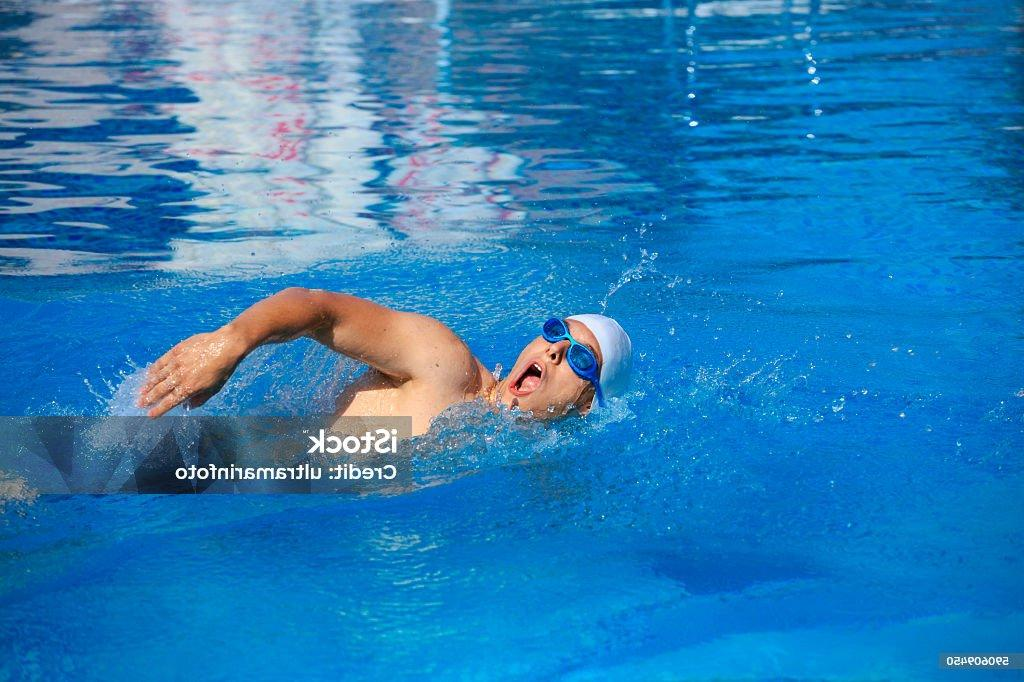Swimming: (104, 149, 767, 516)
